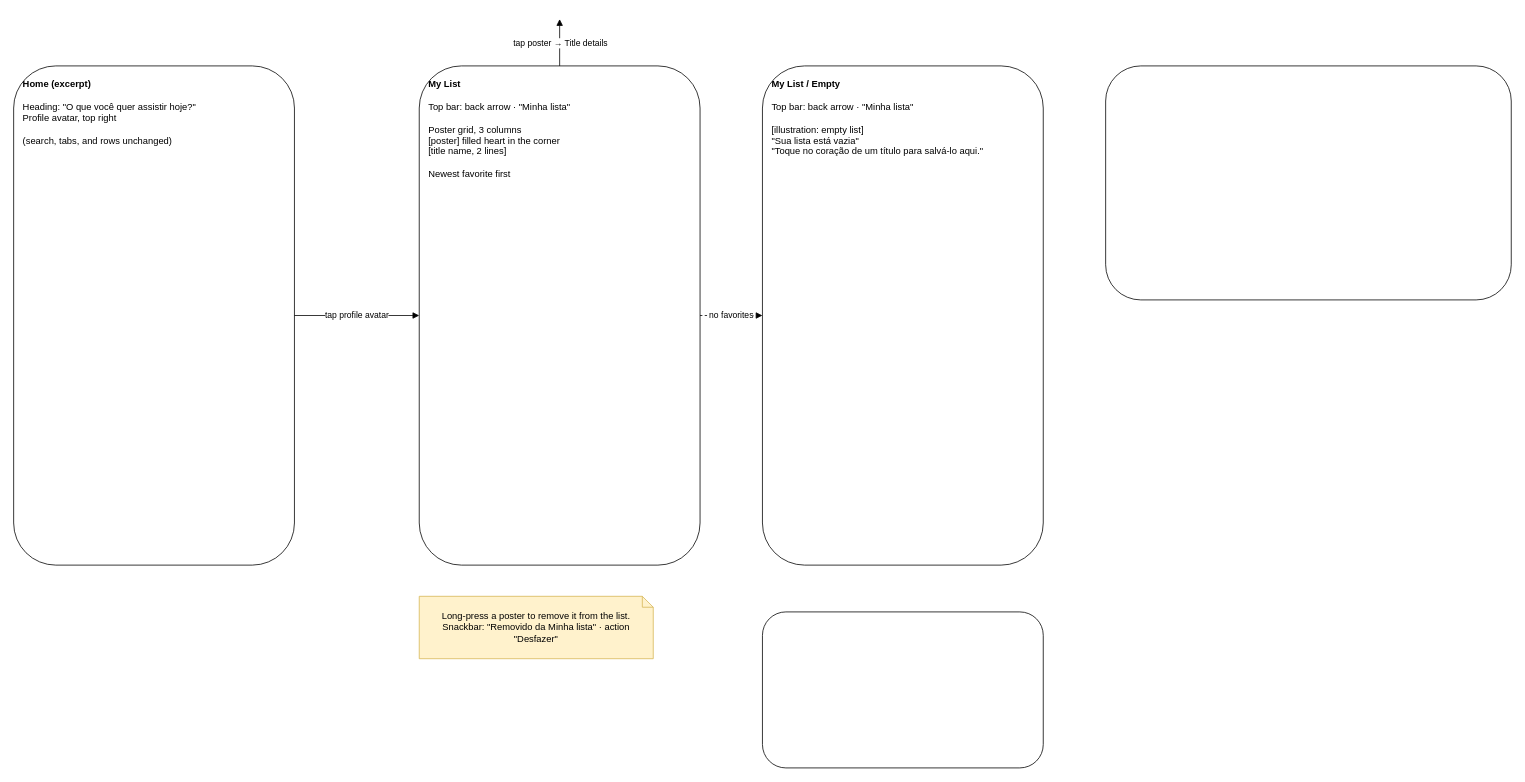
The diagram is 1525 pixels wide and 782 high, and some of its shapes have lost their labels. Each missing label, with the centre of its shape:
My List / Landscape Same top bar Poster grid, 5 columns: pixel 1308 182
Sort list Bottom sheet: "Ordenar por" Options: "Mais recentes" · "Nome": pixel 902 689
